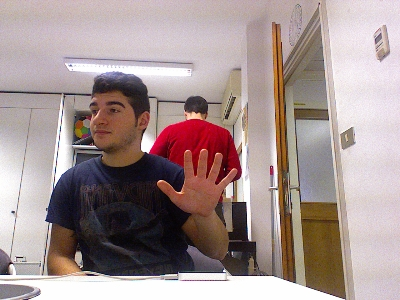布: (156, 148, 238, 215)
